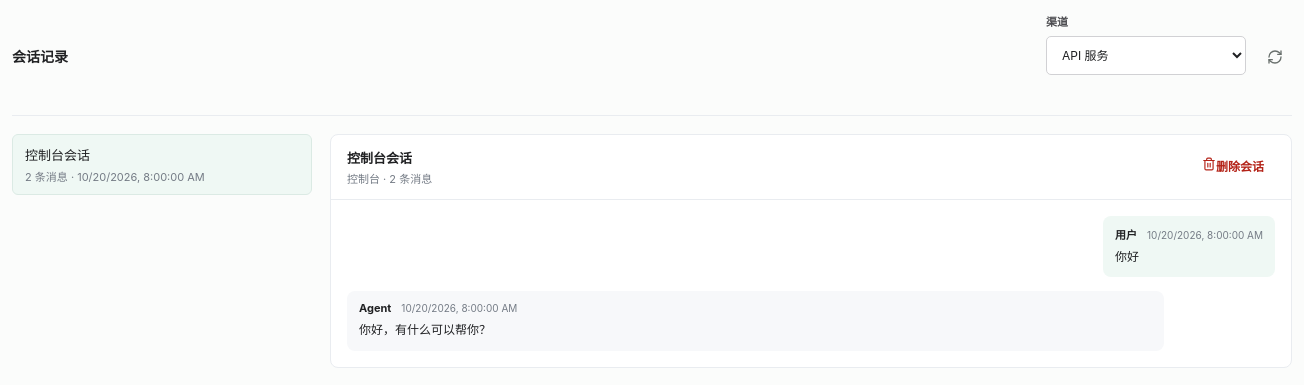
it: Application conversations › keeps API conversations read-only
Select "API 服务" in the dropdown with id "conversation-channel" at (1146, 56), box [1046,36,1246,75]
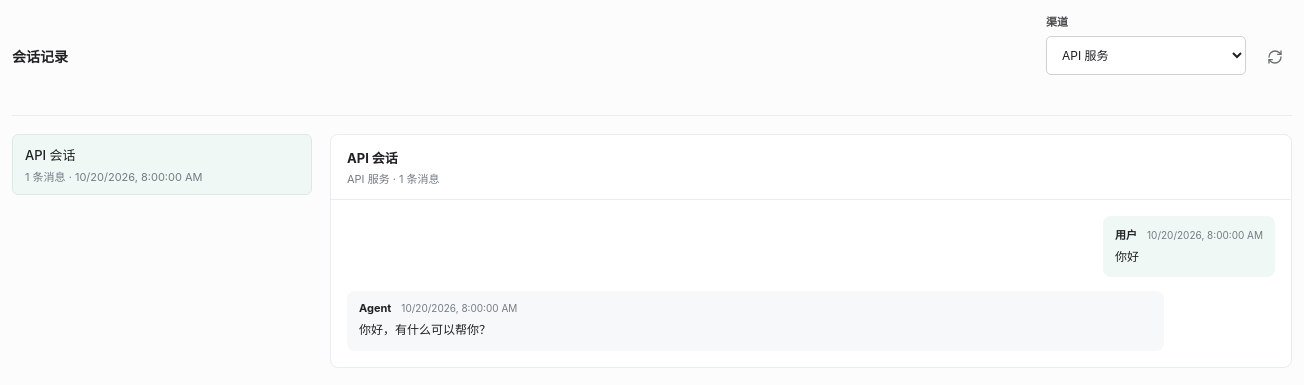
Expected: the text "API 会话" is shown, [25,145,76,164]
Expected: the button "控制台会话 2 条消息 · 10/20/2026, 8:00:00 AM" is gone
